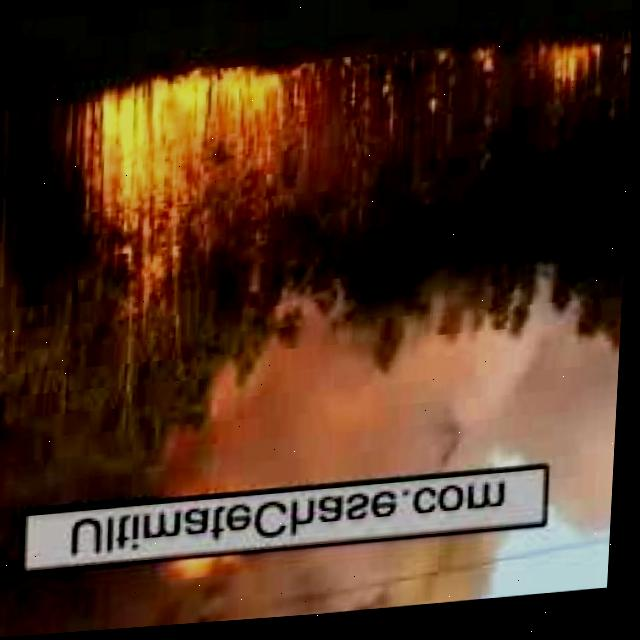Fire: (70, 61, 317, 295), (321, 45, 460, 141), (532, 48, 609, 101), (182, 558, 241, 585), (477, 49, 498, 84)
Smoke: (0, 290, 627, 518), (0, 532, 525, 640)
